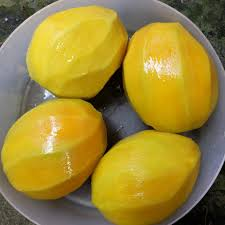mango: (96, 133, 209, 223), (134, 13, 220, 131), (22, 8, 125, 97), (2, 103, 93, 203)
